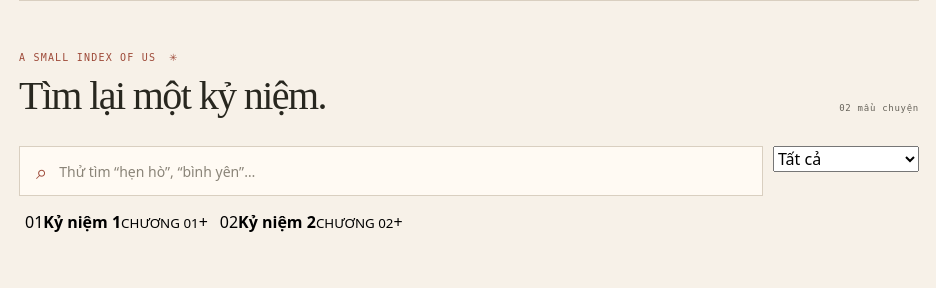
MemoryExplorer › handles a network failure
Step 1. Type "hen" into the search field → (402, 171), box top-left (57, 160), bottom-right (746, 182)
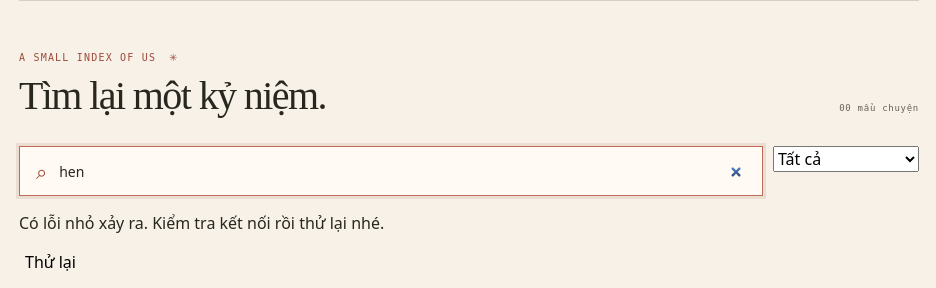
Result: the message shows "Kiểm tra kết nối" at top-left (19, 212), bottom-right (384, 234)
